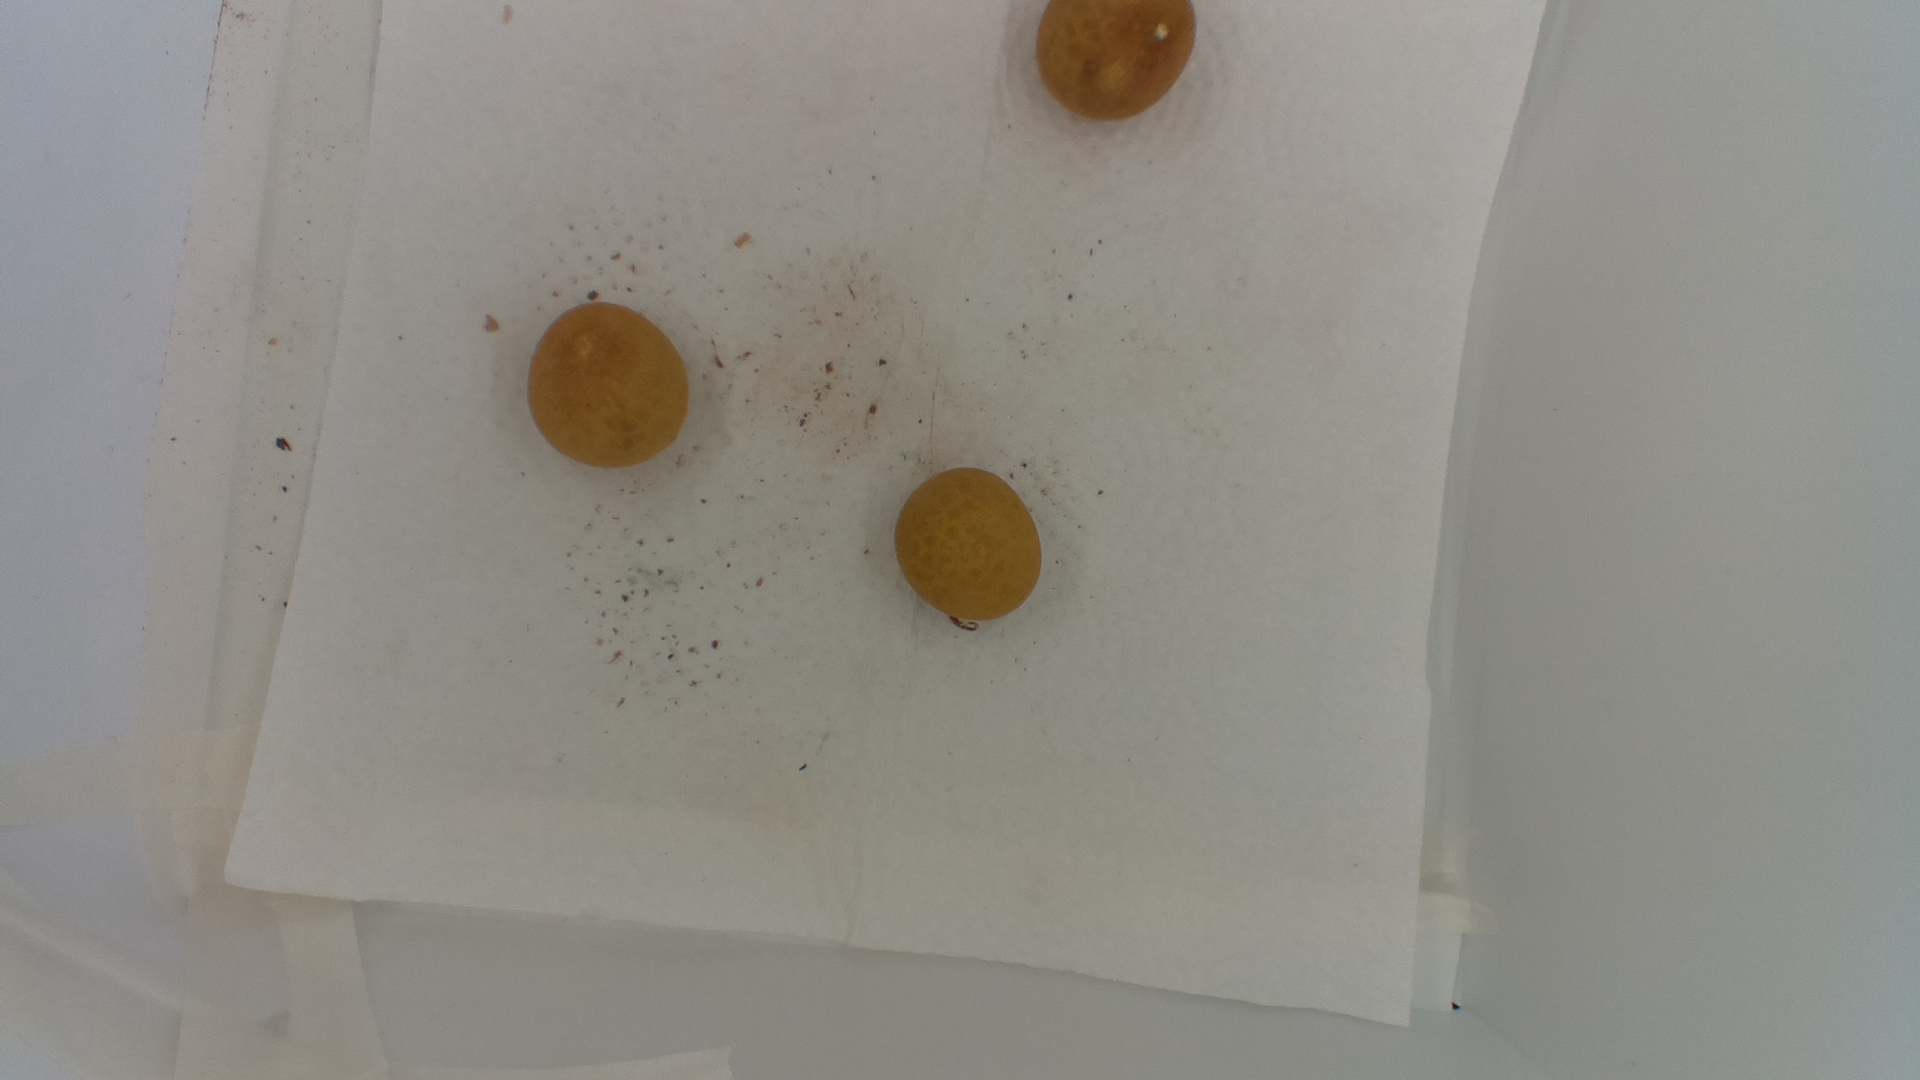fruit: (526, 301, 692, 469), (891, 467, 1052, 630), (1034, 1, 1205, 120)
